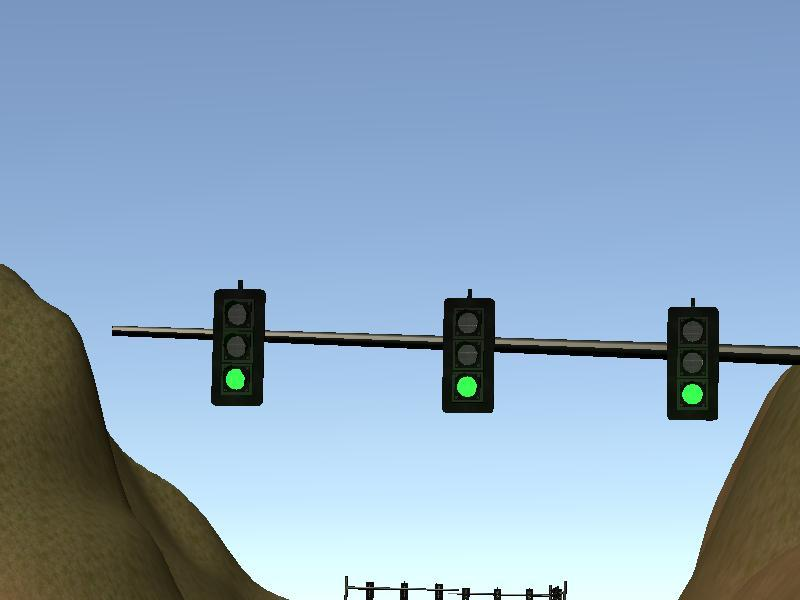Green: (667, 307, 719, 418), (446, 300, 496, 410), (216, 294, 262, 404)
